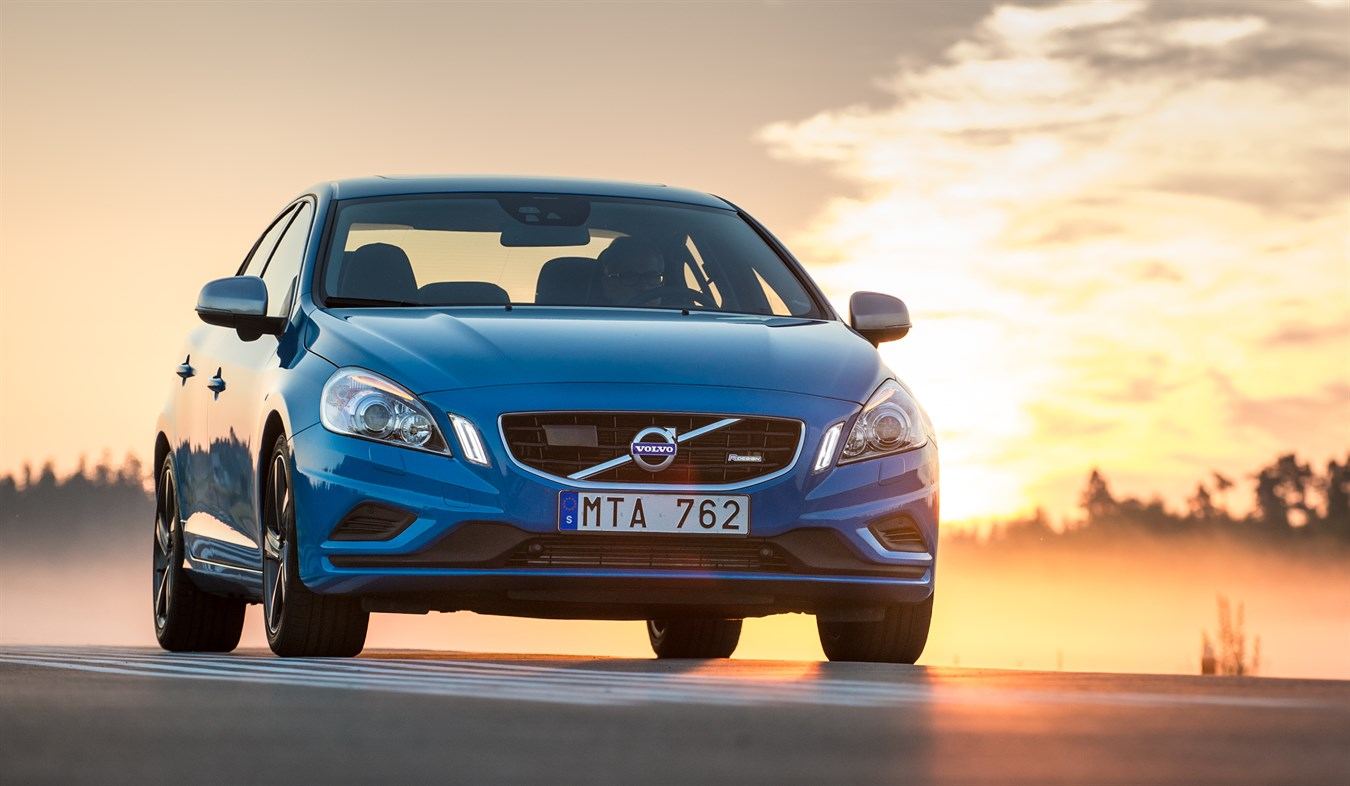other: (149, 180, 944, 685)
